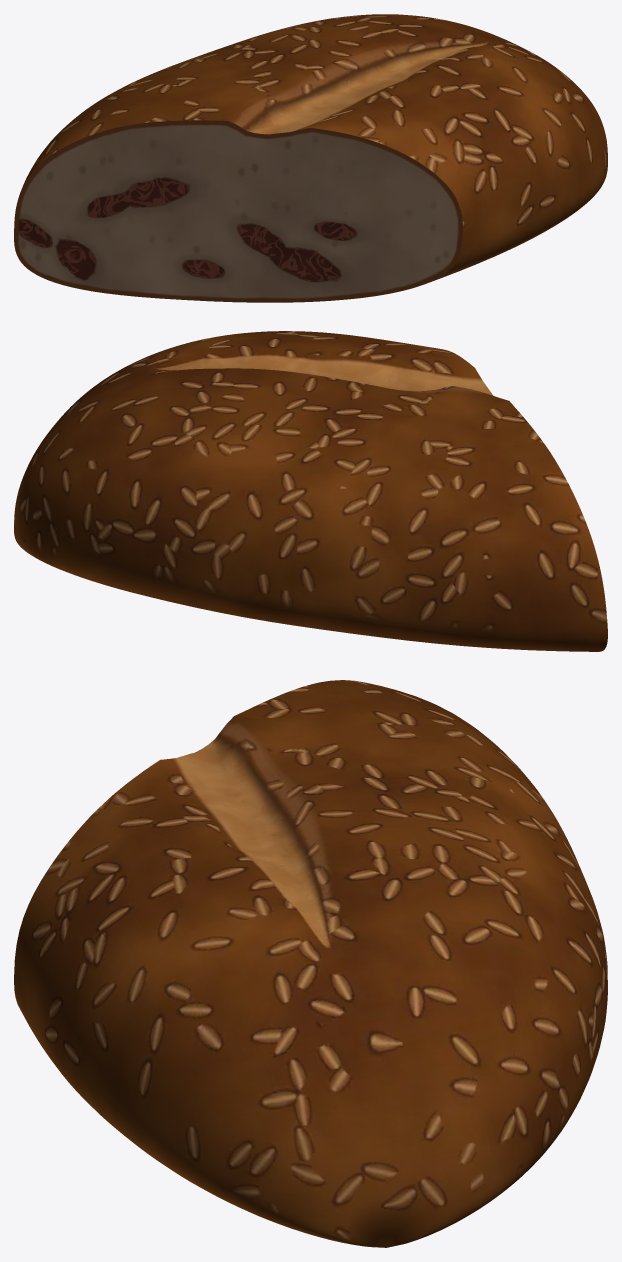
File: rye--raisin-flesh.glb
The picture shows the model from 3 angles, top to bottom: view 1: azimuth 30°, elevation 25°; view 2: azimuth 150°, elevation 25°; view 3: azimuth 270°, elevation 25°; orthographic projection. The views are drawn at different scales.
Visible parts, largest first — view 1: rye_raisin-flesh; view 2: rye_raisin-flesh; view 3: rye_raisin-flesh.
Boxes of the visible parts, <box> form: rye_raisin-flesh: <box>14,14,607,302</box>; rye_raisin-flesh: <box>14,331,607,651</box>; rye_raisin-flesh: <box>14,680,607,1247</box>.
Size of the model in its own units: 0.9273 by 0.2939 by 0.6014.
1 material, 1 textured.
